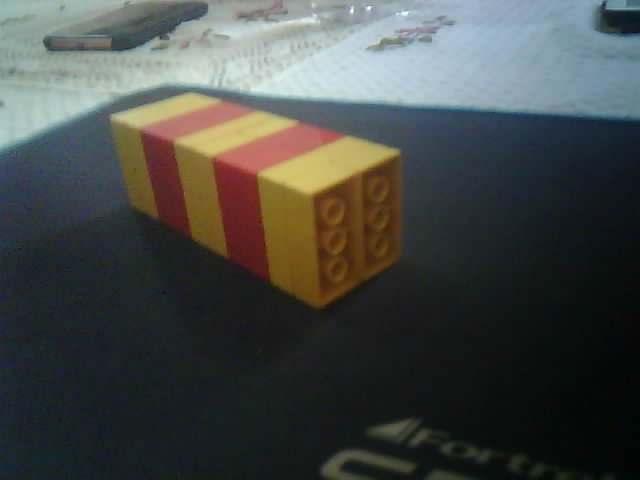lego: (106, 90, 404, 311)
